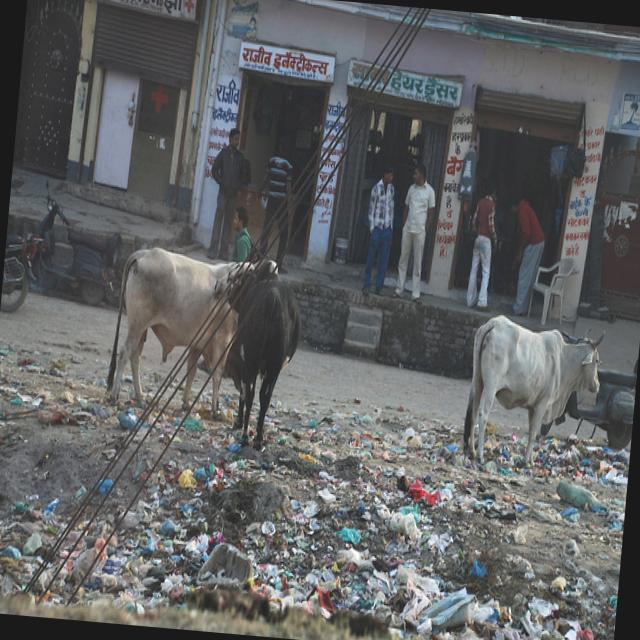garbage: (0, 365, 632, 640)
